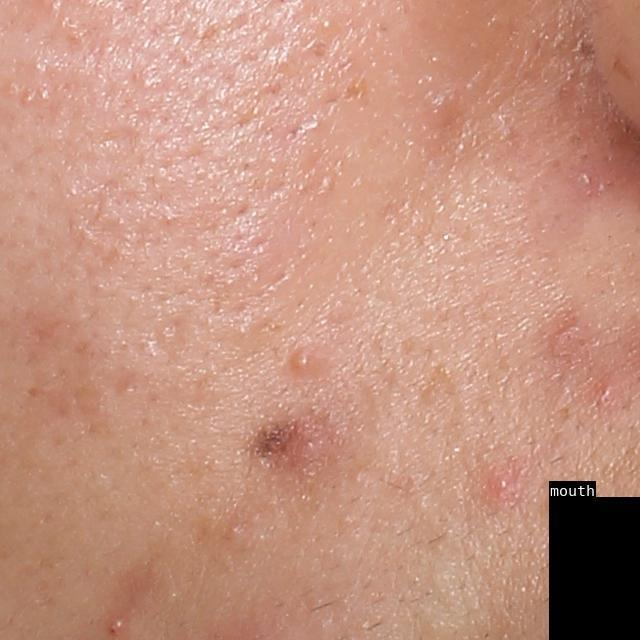comedo: (229, 521, 244, 535)
nevus: (252, 418, 308, 470)
papule: (596, 381, 614, 404)
